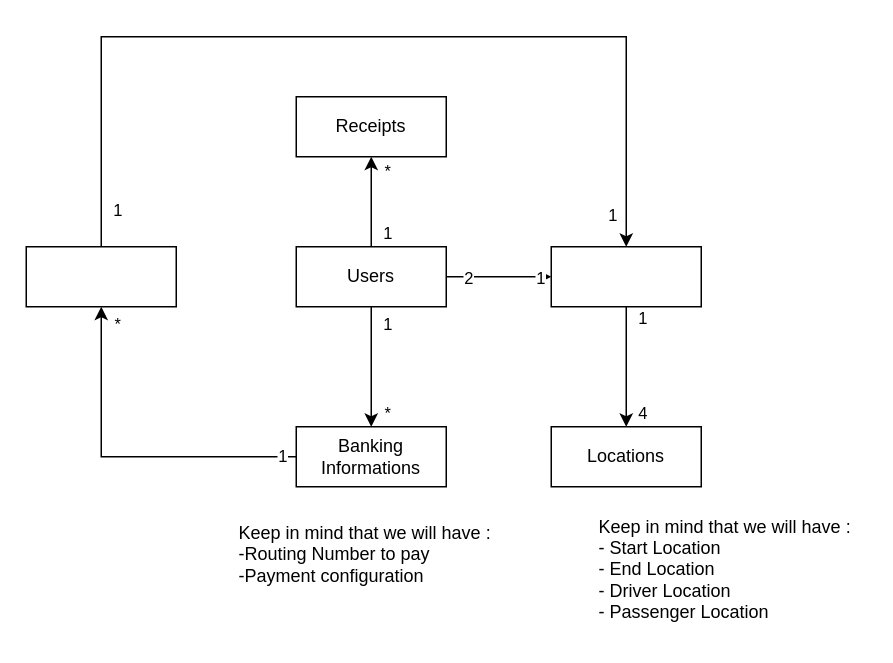
The diagram is 893 pixels wide and 663 high, and some of its shapes have lost their labels. Here are the shapes that lost their labels. From the top down, the box of each, then its label:
(25, 245, 176, 307): Payments
(550, 245, 701, 307): Rides
